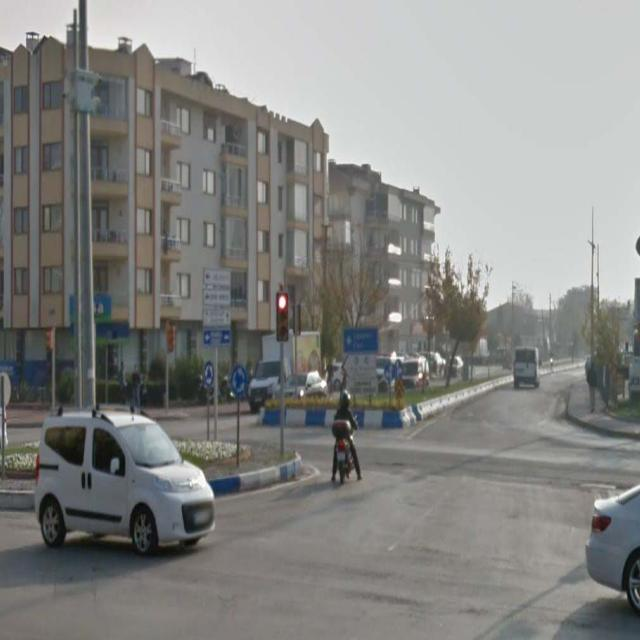kirmizi: (276, 291, 288, 339)
